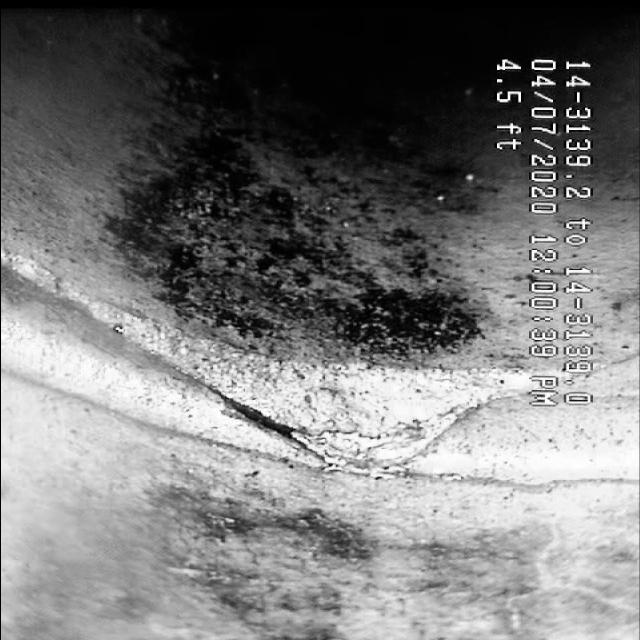Crack: (160, 371, 502, 486)
